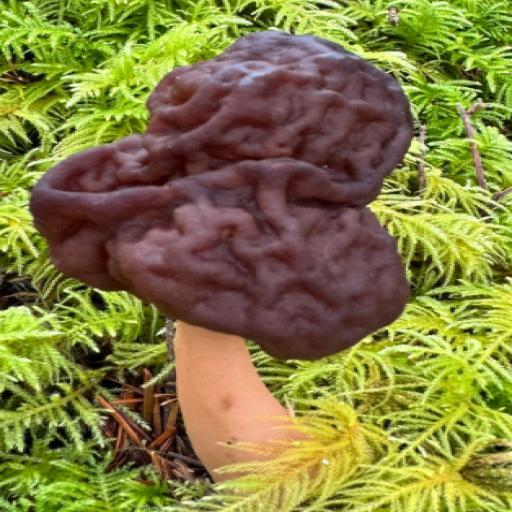mushroom: (7, 0, 483, 394)
